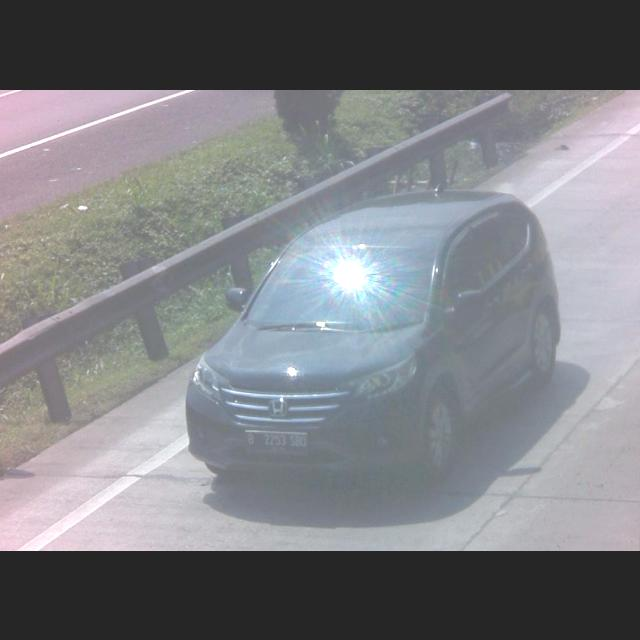plate: (244, 426, 308, 454)
